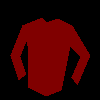abbigliamento_uomo: (10, 17, 90, 96)
